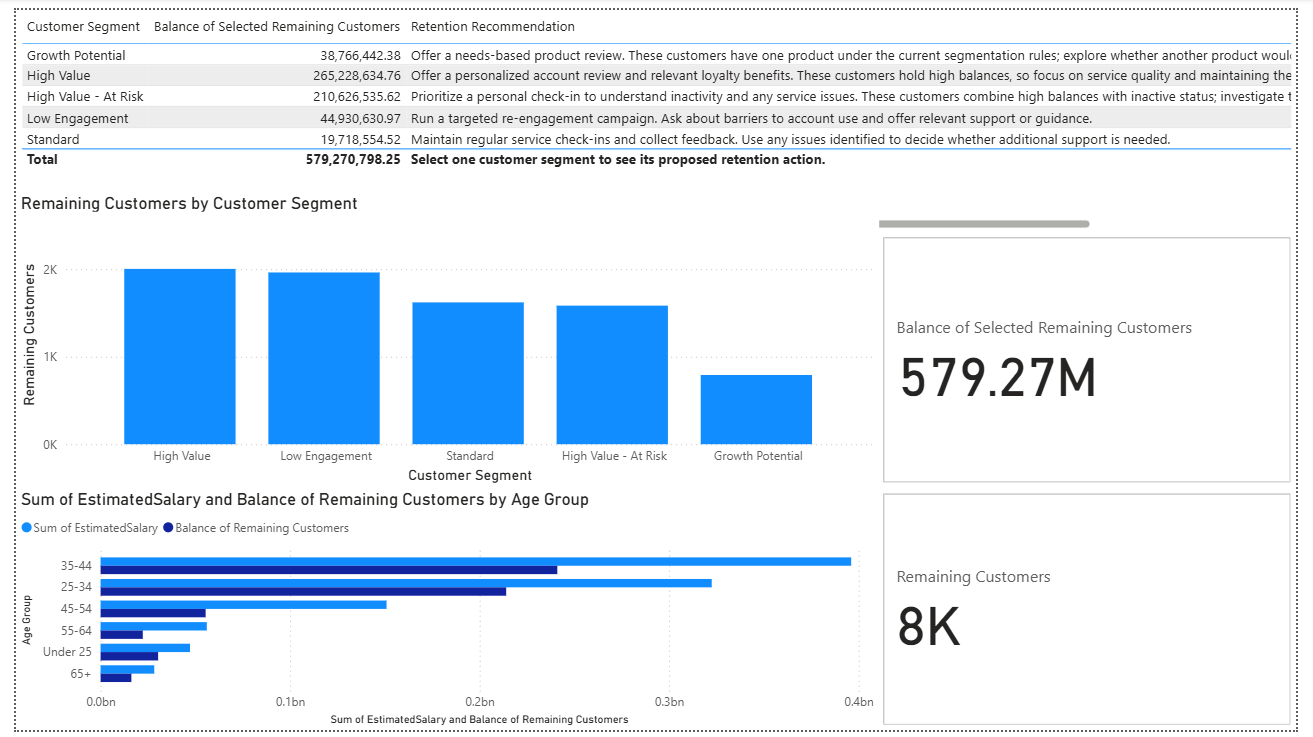

Layout of this report page (visuals, bound fields, positions):
{"tool":"powerbi","page":{"name":"Retention Actions","canvas":[1280,720],"ordinal":2},"visuals":[{"type":"tableEx","fields":{"Values":["Bank_Churn.Customer Segment","Bank_Churn.Balance of Selected Remaining Customers","Bank_Churn.Retention Recommendation"]},"box":[0,0,1280,223.3],"z":1},{"type":"cardVisual","fields":{"Data":["Bank_Churn.Balance of Selected Remaining Customers"]},"box":[862.9,222.9,417.1,255.7],"z":2},{"type":"lineClusteredColumnComboChart","fields":{"Category":["Bank_Churn.Customer Segment"],"Y":["Bank_Churn.Remaining Customers"]},"box":[0,182.9,862.9,295.7],"z":3},{"type":"cardVisual","fields":{"Data":["Bank_Churn.Remaining Customers"]},"box":[862.9,478.6,417.1,241.4],"z":4},{"type":"clusteredBarChart","fields":{"Category":["Bank_Churn.Age Group"],"Y":["Sum(Bank_Churn.EstimatedSalary)","Bank_Churn.Balance of Remaining Customers"]},"box":[0,478.6,862.9,241.4],"z":5}]}

Visuals, with their boxes in screenshot pixels (x1, y1, x2, y2), scaled from the page's 1280x720 canvas onto the 1313x737 screenshot:
tableEx - Bank_Churn.Customer Segment x Bank_Churn.Balance of Selected Remaining Customers: <bbox>0, 0, 1312, 229</bbox>
cardVisual - Bank_Churn.Balance of Selected Remaining Customers: <bbox>885, 228, 1312, 490</bbox>
lineClusteredColumnComboChart - Bank_Churn.Customer Segment x Bank_Churn.Remaining Customers: <bbox>0, 187, 885, 490</bbox>
cardVisual - Bank_Churn.Remaining Customers: <bbox>885, 490, 1312, 736</bbox>
clusteredBarChart - Bank_Churn.Age Group x Sum(Bank_Churn.EstimatedSalary): <bbox>0, 490, 885, 736</bbox>
